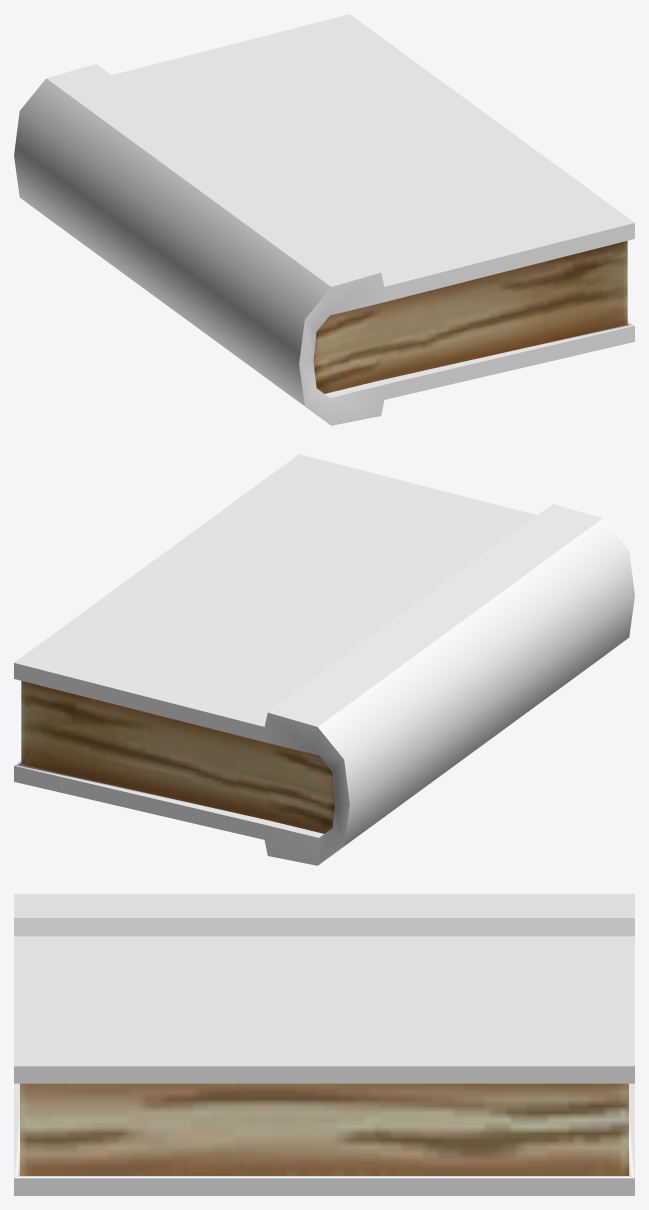
The model's file is Book.fbx.
The picture shows the model from 3 angles, top to bottom: view 1: azimuth 30°, elevation 25°; view 2: azimuth 150°, elevation 25°; view 3: azimuth 270°, elevation 25°; orthographic projection. The views are drawn at different scales.
Parts seen in each view (by area): view 1: Book; view 2: Book; view 3: Book.
Boxes of the visible parts, x1=… form: Book: x1=14, y1=14, x2=634, y2=425; Book: x1=14, y1=454, x2=634, y2=865; Book: x1=14, y1=894, x2=634, y2=1195.
Size of the model in its own units: 40.33 by 16.45 by 59.29.
1 material, 1 textured.
